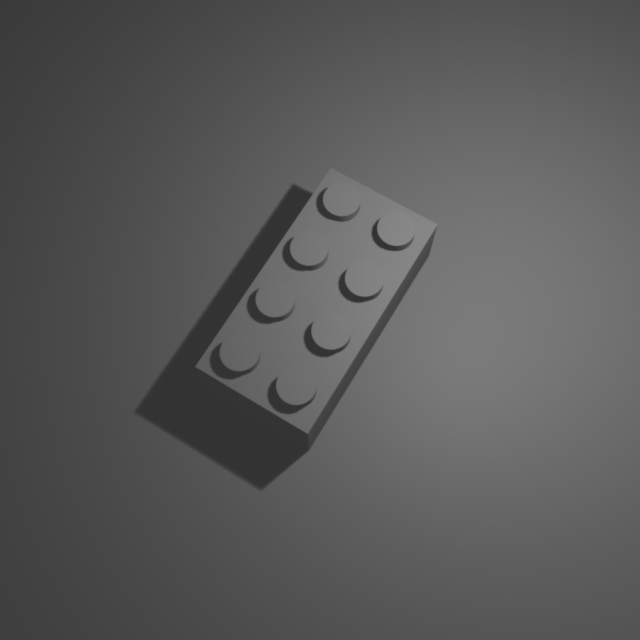lego_2x4: (193, 162, 439, 451)
